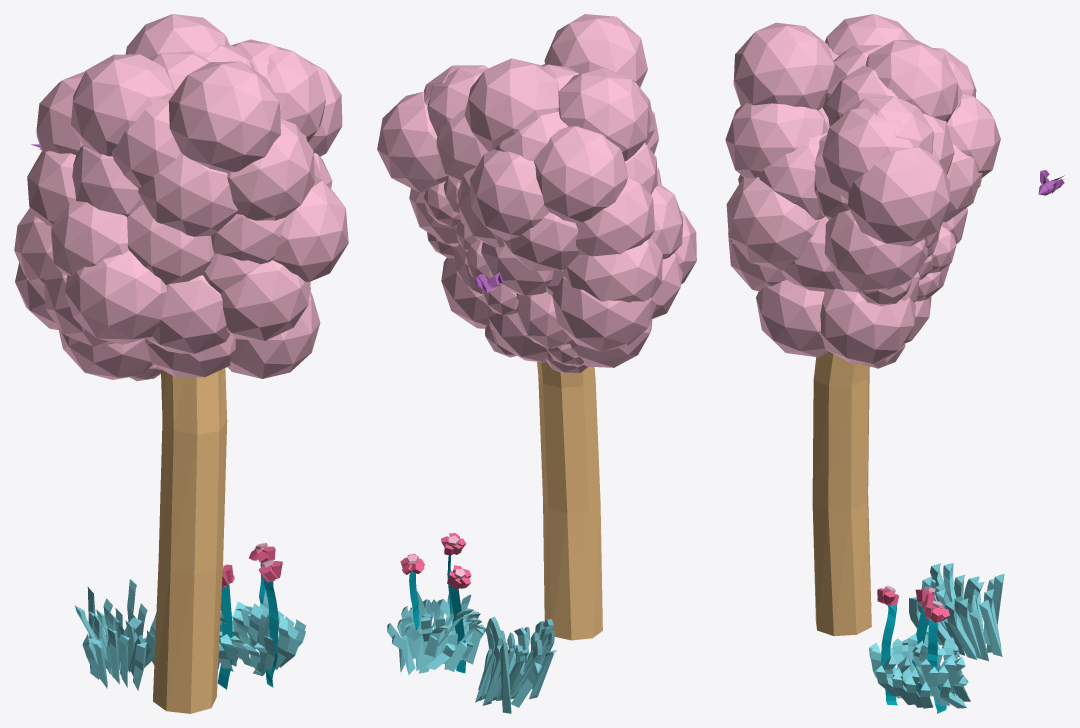
File: trees-poly.fbx
3 renders of one model, left to right at view 1: azimuth 30°, elevation 25°; view 2: azimuth 150°, elevation 25°; view 3: azimuth 270°, elevation 25°, orthographic. The views are drawn at different scales.
Parts seen in each view (by area): view 1: default; view 2: default; view 3: default.
Boxes of the visible parts, x1,y1,x2,y2 form: default: [14, 14, 348, 713]; default: [377, 14, 696, 713]; default: [725, 14, 1064, 713].
Size of the model in its own units: 1.1 by 2.36 by 1.14.
